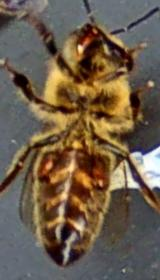varroa_mite: (26, 143, 64, 182), (78, 160, 113, 192)
